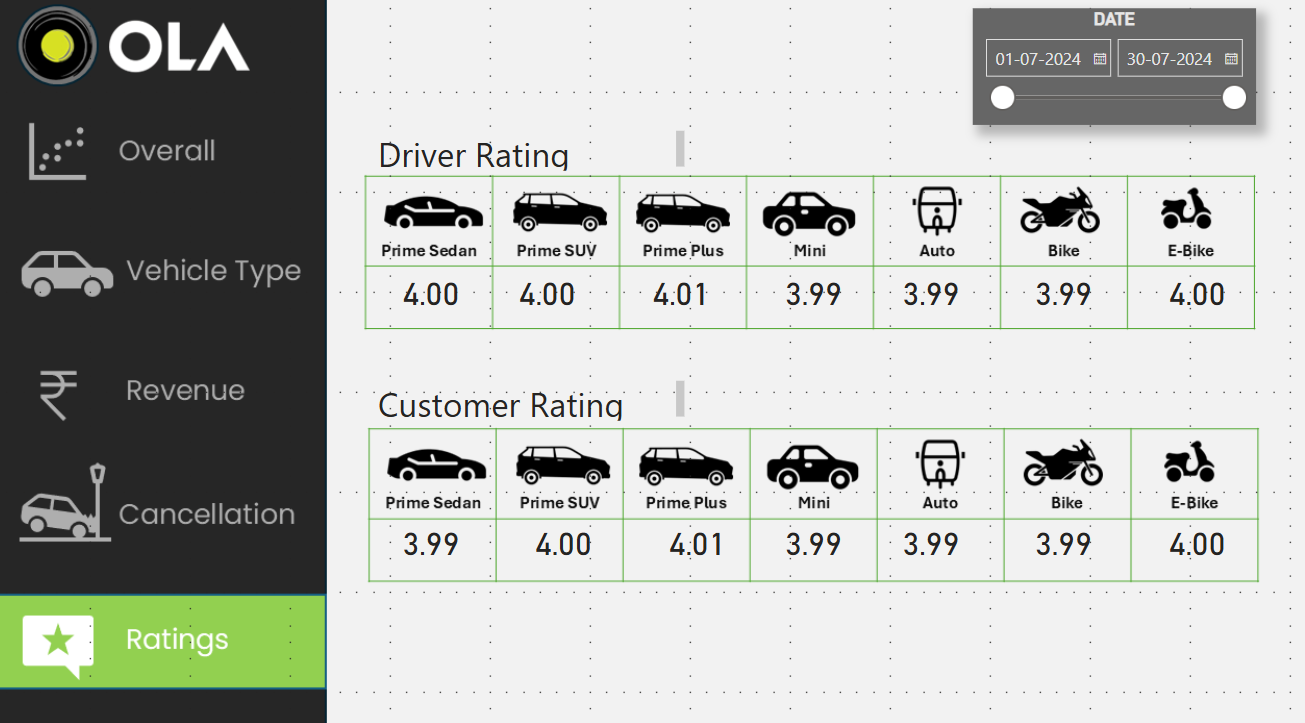

Layout of this report page (visuals, bound fields, positions):
{"tool":"powerbi","page":{"name":"Ratings","canvas":[1280,720],"ordinal":4},"visuals":[{"type":"actionButton","box":[0,112,320,96],"z":0},{"type":"actionButton","box":[0,224,320,96],"z":1000},{"type":"actionButton","box":[0,336,320,96],"z":2000},{"type":"actionButton","box":[0,448,320,96],"z":3000},{"type":"card","fields":{"Values":["Avg(Booking1.Driver_Ratings)"]},"box":[368,256,112,64],"z":4000},{"type":"card","fields":{"Values":["Avg(Booking1.Driver_Ratings)"]},"box":[608,256,112,64],"z":5000},{"type":"card","fields":{"Values":["Avg(Booking1.Driver_Ratings)"]},"box":[736,256,112,64],"z":6000},{"type":"card","fields":{"Values":["Avg(Booking1.Driver_Ratings)"]},"box":[848,256,112,64],"z":7000},{"type":"card","fields":{"Values":["Avg(Booking1.Driver_Ratings)"]},"box":[976,256,112,64],"z":8000},{"type":"card","fields":{"Values":["Avg(Booking1.Driver_Ratings)"]},"box":[1104,256,112,64],"z":9000},{"type":"card","fields":{"Values":["Avg(Booking1.Driver_Ratings)"]},"box":[480,256,112,64],"z":10000},{"type":"card","fields":{"Values":["Avg(Booking1.Customer_Rating)"]},"box":[368,496,112,64],"z":11000},{"type":"card","fields":{"Values":["Avg(Booking1.Driver_Ratings)"]},"box":[496,496,112,64],"z":12000},{"type":"card","fields":{"Values":["Avg(Booking1.Driver_Ratings)"]},"box":[624,496,112,64],"z":13000},{"type":"card","fields":{"Values":["Avg(Booking1.Driver_Ratings)"]},"box":[736,496,112,64],"z":14000},{"type":"card","fields":{"Values":["Avg(Booking1.Driver_Ratings)"]},"box":[848,496,112,64],"z":15000},{"type":"card","fields":{"Values":["Avg(Booking1.Driver_Ratings)"]},"box":[976,496,112,64],"z":16000},{"type":"card","fields":{"Values":["Avg(Booking1.Driver_Ratings)"]},"box":[1104,496,112,64],"z":17000},{"type":"textbox","box":[368,368,304,48],"z":18000},{"type":"textbox","box":[368,128,304,48],"z":19000},{"type":"slicer","title":"DATE","fields":{"Values":["Booking1.Date"]},"box":[944,16,272,112],"z":20000}]}

Visuals, with their boxes in screenshot pixels (x1, y1, x2, y2), scaled from the page's 1280x720 canvas onto the 1305x723 screenshot:
actionButton: x1=0, y1=112, x2=326, y2=209
actionButton: x1=0, y1=225, x2=326, y2=321
actionButton: x1=0, y1=337, x2=326, y2=434
actionButton: x1=0, y1=450, x2=326, y2=546
card - Avg(Booking1.Driver_Ratings): x1=375, y1=257, x2=489, y2=321
card - Avg(Booking1.Driver_Ratings): x1=620, y1=257, x2=734, y2=321
card - Avg(Booking1.Driver_Ratings): x1=750, y1=257, x2=865, y2=321
card - Avg(Booking1.Driver_Ratings): x1=865, y1=257, x2=979, y2=321
card - Avg(Booking1.Driver_Ratings): x1=995, y1=257, x2=1109, y2=321
card - Avg(Booking1.Driver_Ratings): x1=1126, y1=257, x2=1240, y2=321
card - Avg(Booking1.Driver_Ratings): x1=489, y1=257, x2=604, y2=321
card - Avg(Booking1.Customer_Rating): x1=375, y1=498, x2=489, y2=562
card - Avg(Booking1.Driver_Ratings): x1=506, y1=498, x2=620, y2=562
card - Avg(Booking1.Driver_Ratings): x1=636, y1=498, x2=750, y2=562
card - Avg(Booking1.Driver_Ratings): x1=750, y1=498, x2=865, y2=562
card - Avg(Booking1.Driver_Ratings): x1=865, y1=498, x2=979, y2=562
card - Avg(Booking1.Driver_Ratings): x1=995, y1=498, x2=1109, y2=562
card - Avg(Booking1.Driver_Ratings): x1=1126, y1=498, x2=1240, y2=562
textbox: x1=375, y1=370, x2=685, y2=418
textbox: x1=375, y1=129, x2=685, y2=177
"DATE" slicer: x1=962, y1=16, x2=1240, y2=129
